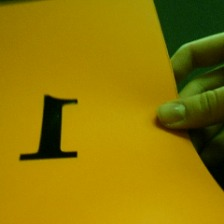orange1: (13, 91, 86, 164)
